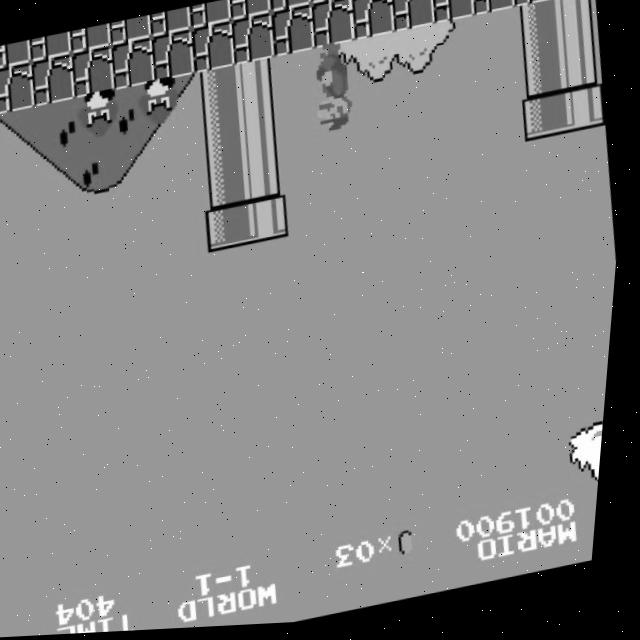0- big_mario: (304, 41, 368, 144)
14- pipe: (241, 150, 293, 203), (201, 158, 253, 211), (516, 49, 567, 103), (512, 4, 563, 58), (237, 104, 288, 158), (233, 60, 284, 114), (197, 112, 248, 166), (193, 67, 244, 121), (552, 0, 603, 51), (557, 43, 607, 95)
15- pipe_head: (245, 194, 297, 248), (206, 202, 257, 256), (521, 95, 572, 148), (561, 88, 611, 141)
17- undestructible_block: (268, 7, 320, 61), (308, 0, 360, 53), (189, 23, 240, 77), (149, 30, 200, 84), (109, 38, 160, 92), (69, 46, 120, 100), (29, 54, 80, 108), (229, 15, 280, 68), (348, 0, 400, 45), (0, 61, 40, 115), (388, 0, 439, 37), (428, 0, 479, 28), (188, 0, 234, 31), (108, 16, 154, 47), (68, 24, 114, 55), (28, 32, 74, 63), (148, 9, 194, 39), (228, 0, 274, 24), (467, 0, 518, 21), (0, 39, 34, 70), (267, 0, 313, 15), (508, 0, 558, 13), (308, 0, 353, 7), (548, 0, 597, 6)
8- goomba: (135, 76, 189, 133), (75, 88, 129, 145)
